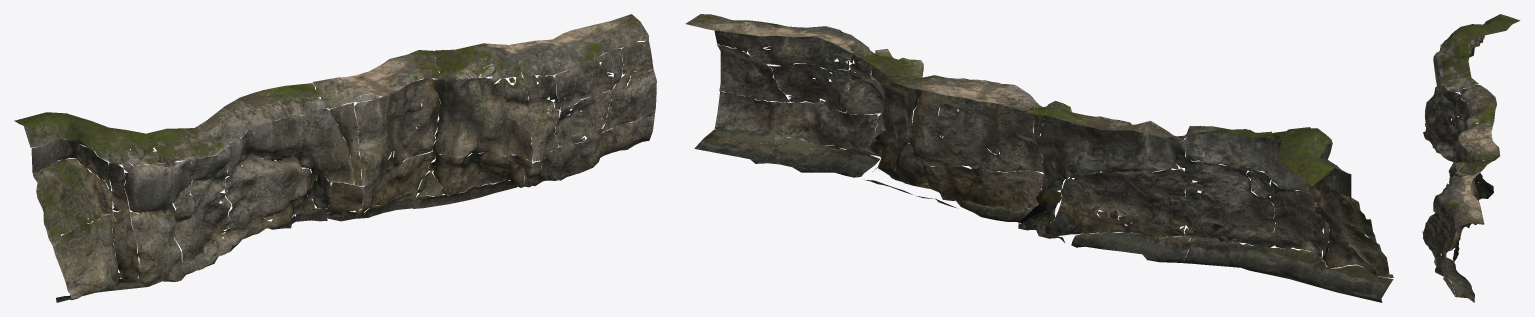
The model's file is coastal_cliff_02_1k.glb.
3 views of the same model, side by side, from view 1: azimuth 30°, elevation 25°; view 2: azimuth 150°, elevation 25°; view 3: azimuth 270°, elevation 25° (orthographic). The views are drawn at different scales.
Parts seen in each view (by area): view 1: coastal_cliff_02_LOD0; view 2: coastal_cliff_02_LOD0; view 3: coastal_cliff_02_LOD0.
Boxes of the visible parts, x1,y1,x2,y2 form: coastal_cliff_02_LOD0: (14, 14, 656, 302); coastal_cliff_02_LOD0: (685, 14, 1393, 302); coastal_cliff_02_LOD0: (1422, 14, 1520, 302).
Bounding box in the file's own units: 40.9 × 10.07 × 8.64.
1 material, 1 textured.
